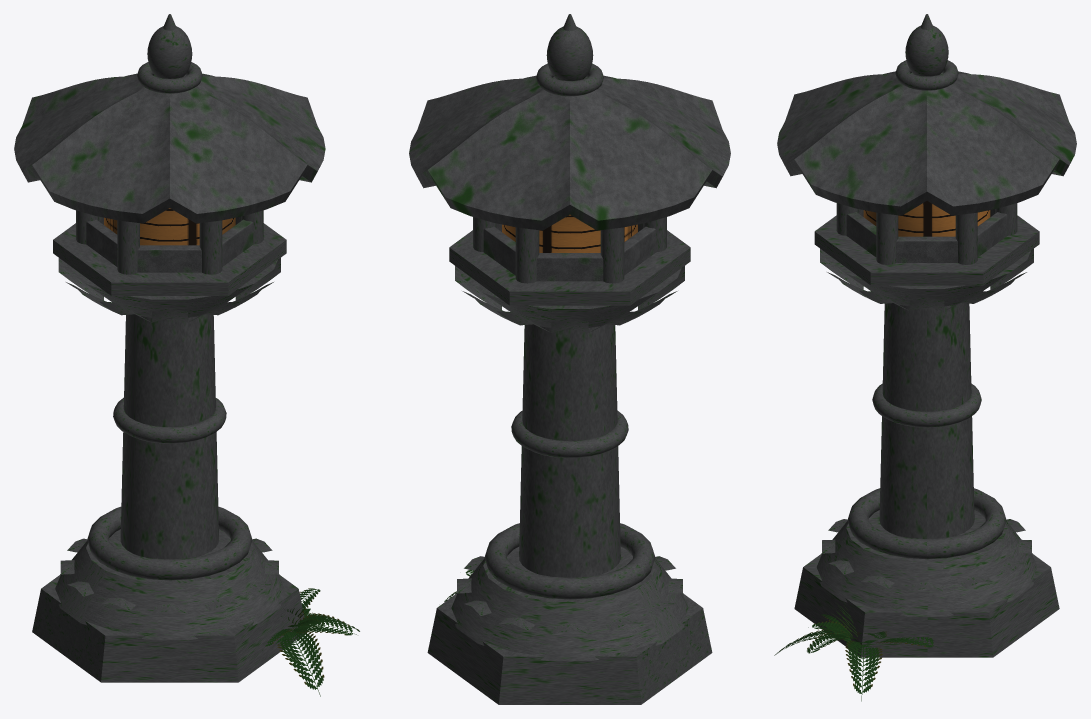
Rendered from StoneLantern_Ishidoro.fbx.
The picture shows the model from 3 angles, left to right: view 1: azimuth 30°, elevation 25°; view 2: azimuth 150°, elevation 25°; view 3: azimuth 270°, elevation 25°; orthographic projection. The views are drawn at different scales.
Parts seen in each view (by area): view 1: StoneLantern_Ishidoro; view 2: StoneLantern_Ishidoro; view 3: StoneLantern_Ishidoro.
Part boxes in pixels (left/top/right/bottom): StoneLantern_Ishidoro: left=14, top=14, right=359, bottom=696; StoneLantern_Ishidoro: left=409, top=14, right=730, bottom=704; StoneLantern_Ishidoro: left=774, top=14, right=1076, bottom=701.
Bounding box in the file's own units: 1.16 × 2.37 × 1.1.
